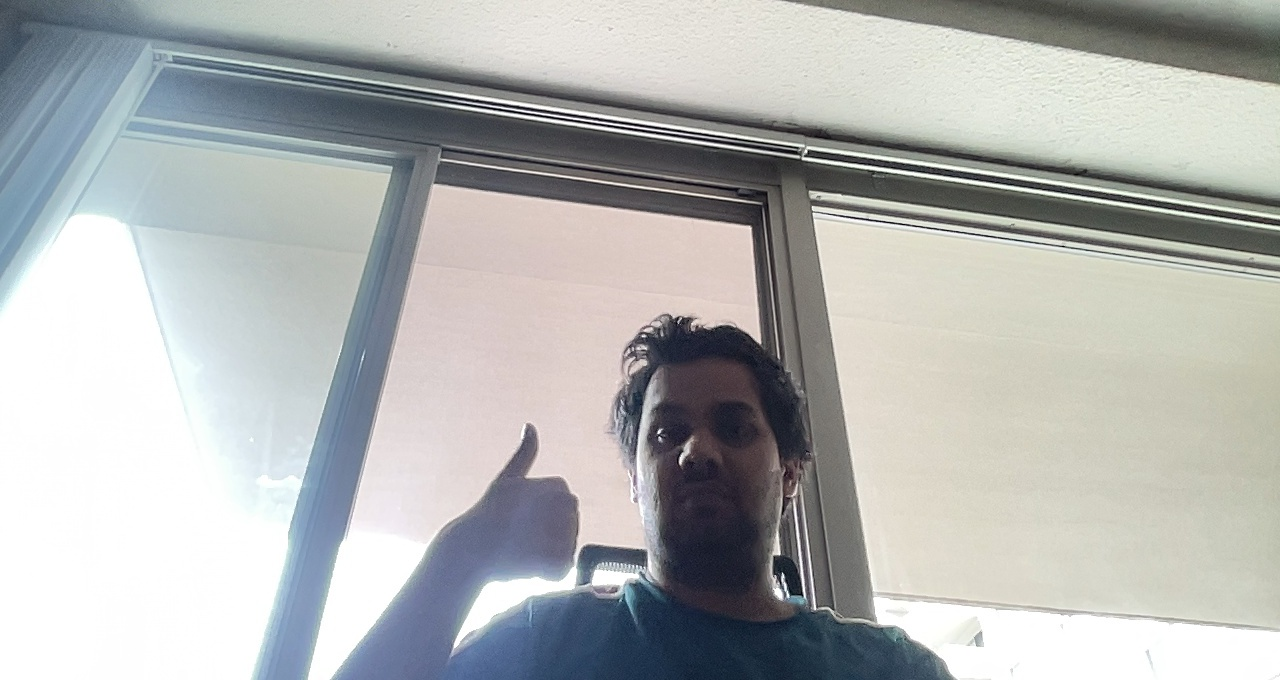thumbsup: (476, 418, 592, 583)
